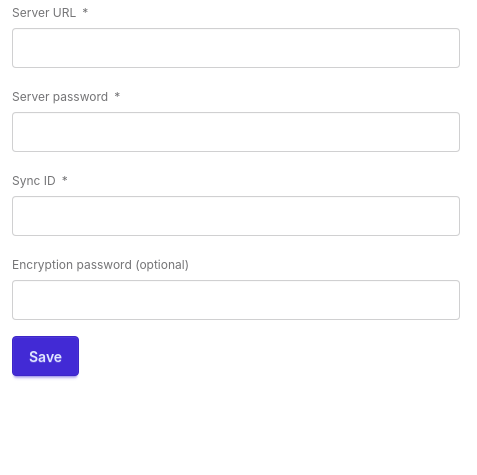
ActualSettingsPage › shows required-field errors and does not save
The image size is (477, 475).
Step 1. Click the button "Save" → click(46, 356), box x1=12 y1=336 x2=79 y2=376
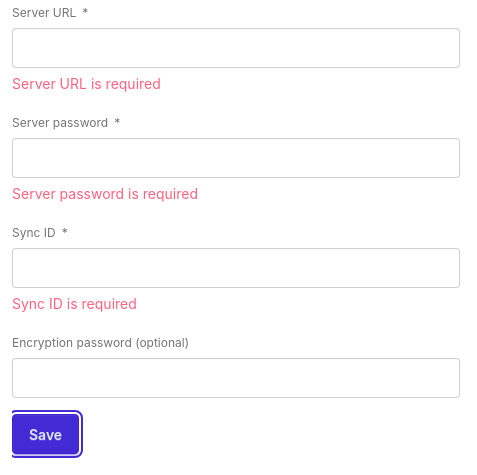
Now the text "Server URL is required" is shown, box x1=12 y1=75 x2=161 y2=92
Now the text "Server password is required" is shown, box x1=12 y1=185 x2=198 y2=202
Now the text "Sync ID is required" is shown, box x1=12 y1=295 x2=137 y2=312
